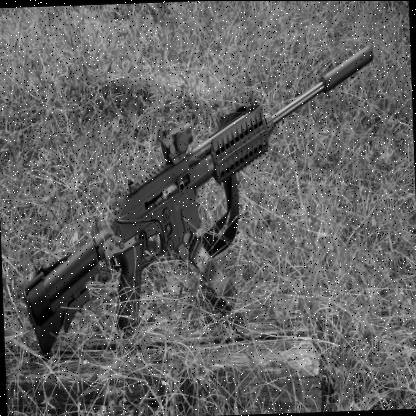rifle: (11, 20, 385, 370)
